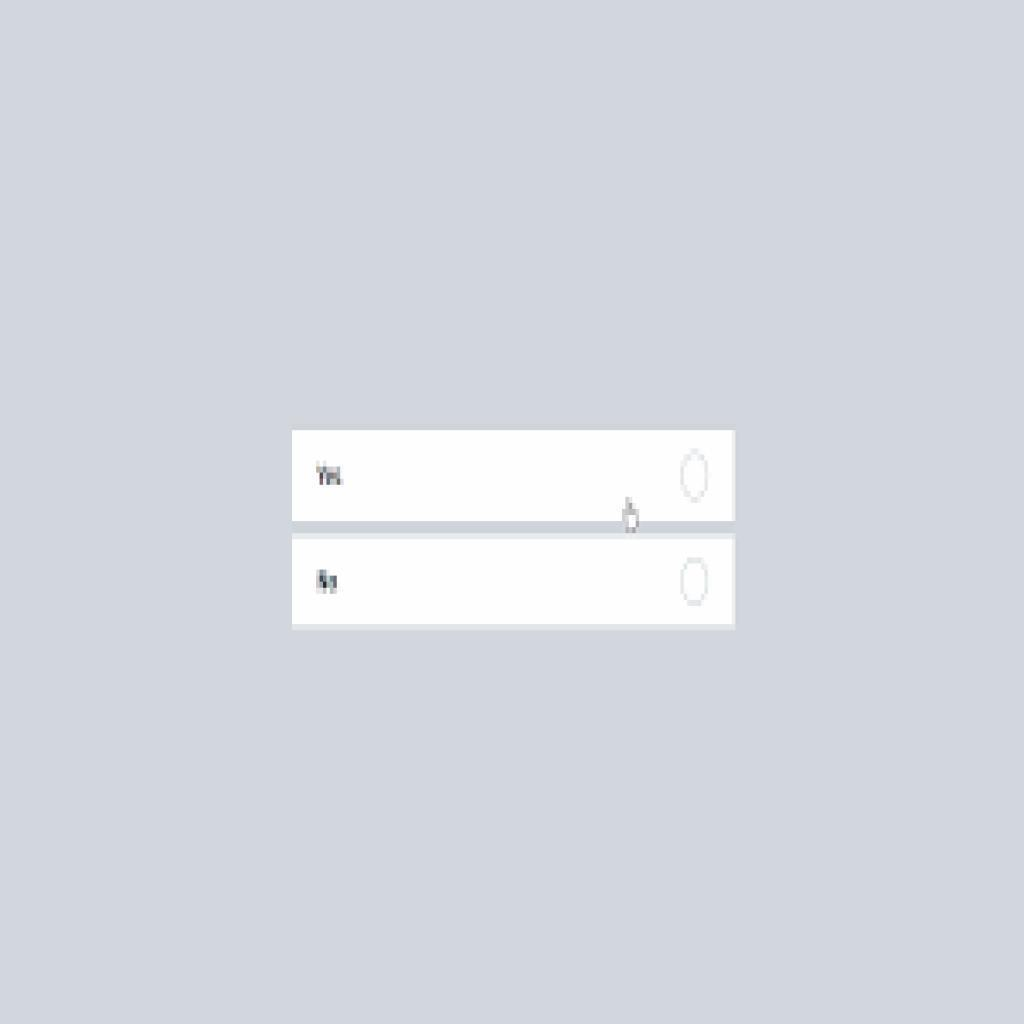radio: (677, 451, 718, 504), (680, 552, 716, 609), (691, 443, 693, 445)
